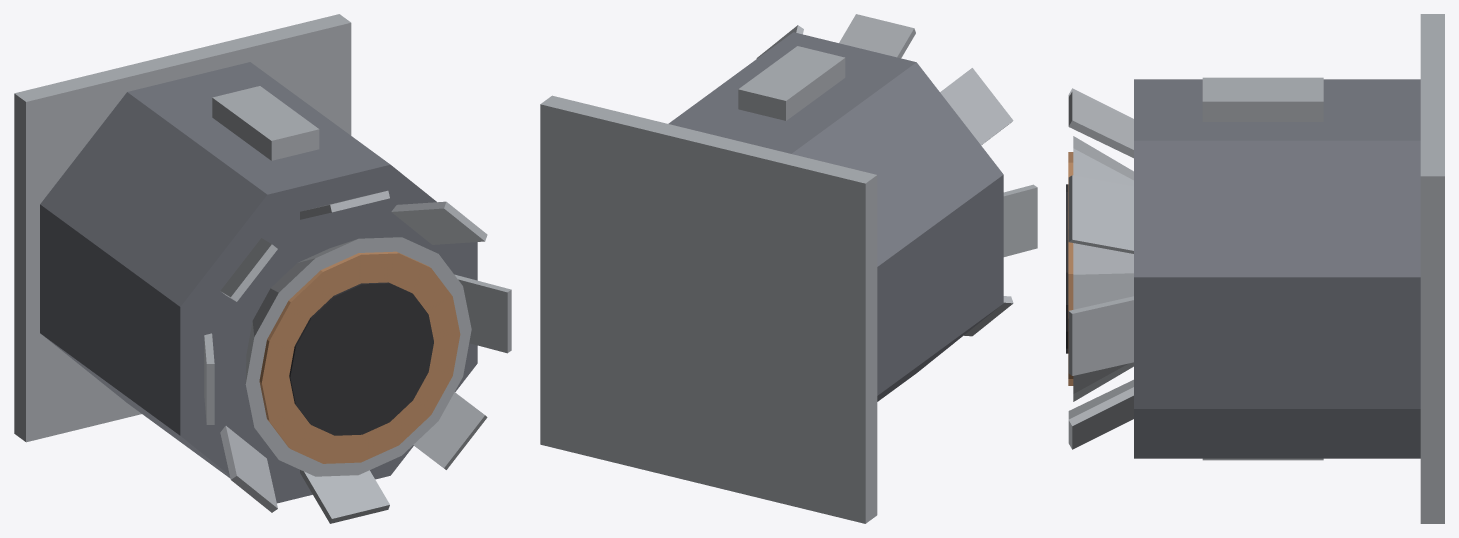
File: shell_vector.glb
The picture shows the model from 3 angles, left to right: view 1: azimuth 30°, elevation 25°; view 2: azimuth 150°, elevation 25°; view 3: azimuth 270°, elevation 25°; orthographic projection. The views are drawn at different scales.
Size of the model in its own units: 0.95 by 0.98 by 0.938.
